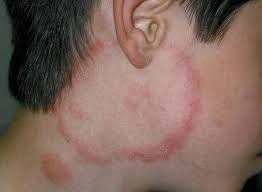Ringworm: (74, 2, 262, 69), (16, 68, 84, 192)
